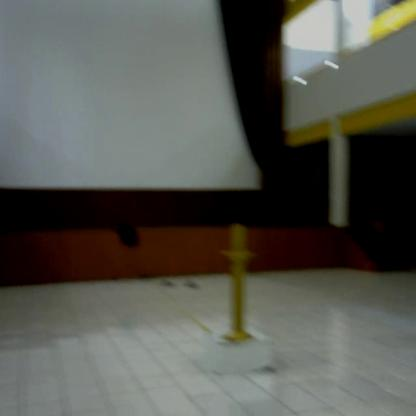pole: (222, 222, 261, 352)
